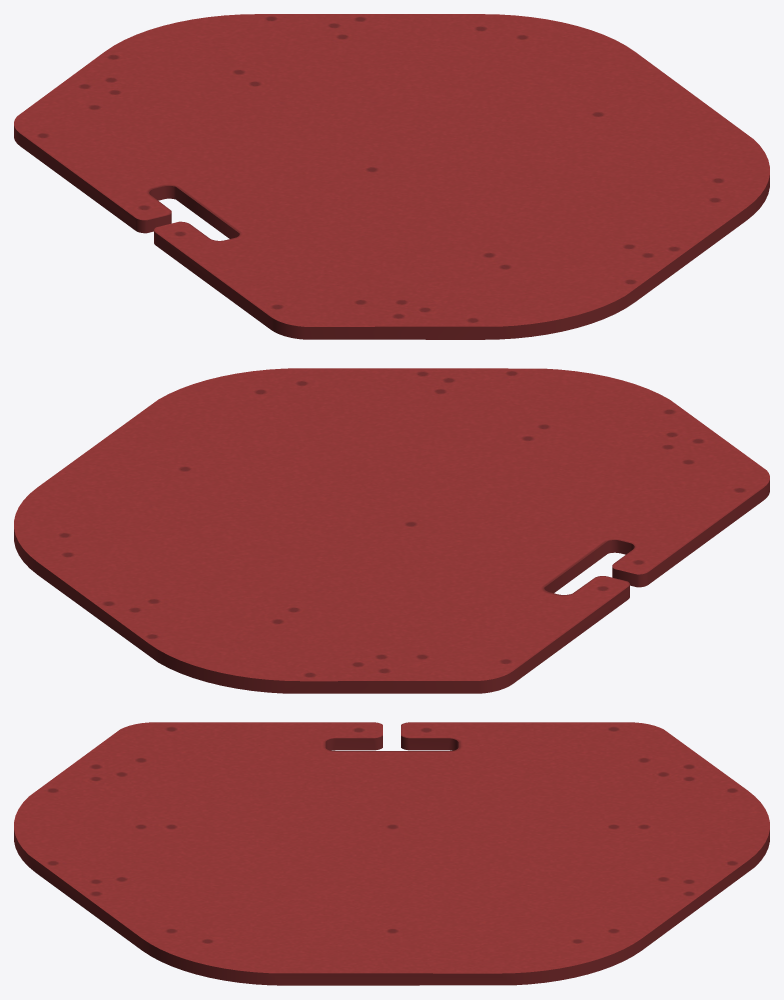
File: plate_bottom_red.dae
The picture shows the model from 3 angles, top to bottom: view 1: azimuth 30°, elevation 25°; view 2: azimuth 150°, elevation 25°; view 3: azimuth 270°, elevation 25°; orthographic projection. The views are drawn at different scales.
Visible parts, largest first — view 1: _f_stack; view 2: _f_stack; view 3: _f_stack.
Boxes of the visible parts, x1,y1,x2,y2 form: _f_stack: (14, 14, 769, 339); _f_stack: (14, 368, 769, 693); _f_stack: (14, 722, 769, 985).
Size of the model in its own units: 0.2673 by 0.3398 by 0.006.
1 material, 1 textured.
